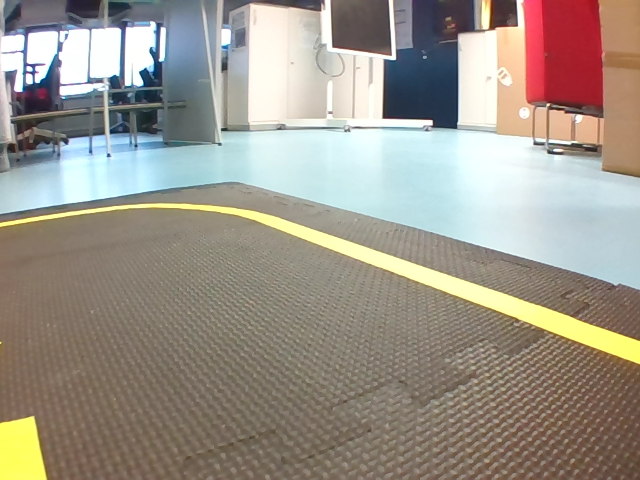no30: (520, 34, 574, 152)
